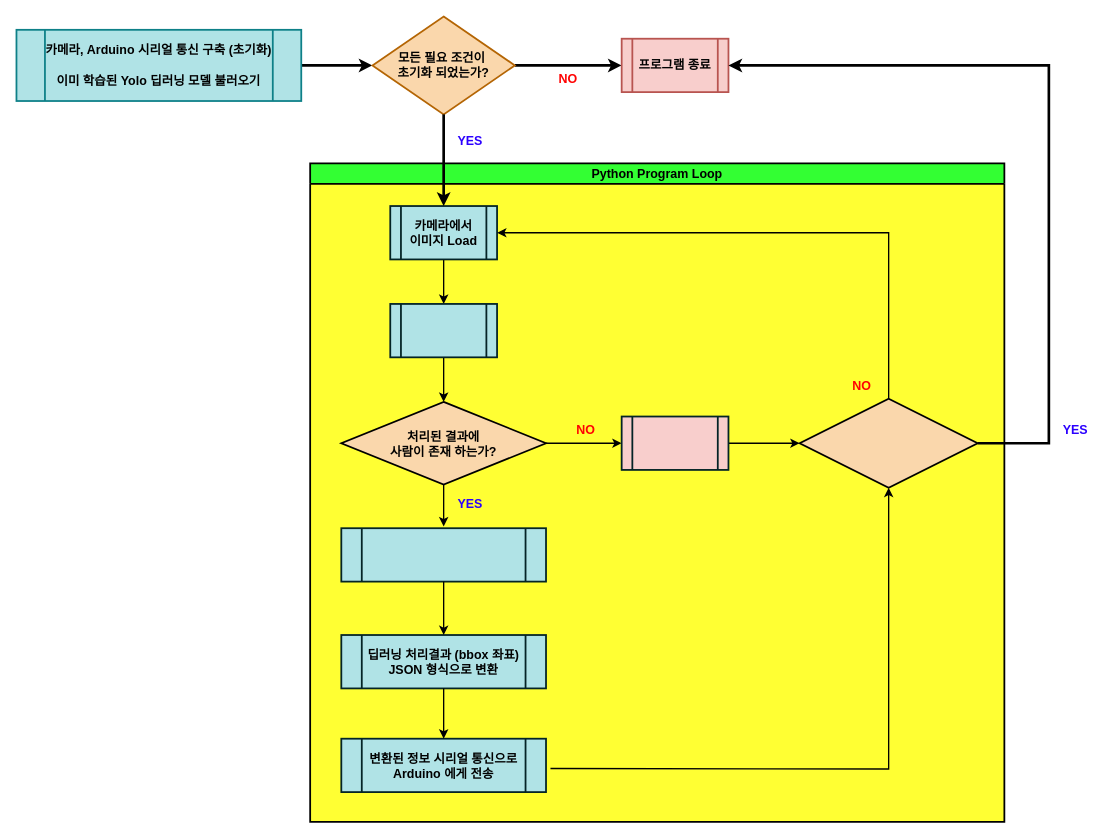
Image size: 1117x837. Some labels were removed from this diagram. Here are the shapes that lost their labels. From the top down, the centre of each, then its label:
At point (443, 330): "Yolo 딥러닝 처리".
At point (674, 442): "다음 이미지 처리 준비".
At point (888, 442): "에러가 발생했거나 프로그램 종료 신호를 받았는가?".
At point (443, 554): "Arduino 에게 딥러닝 처리 결과 보내기".
